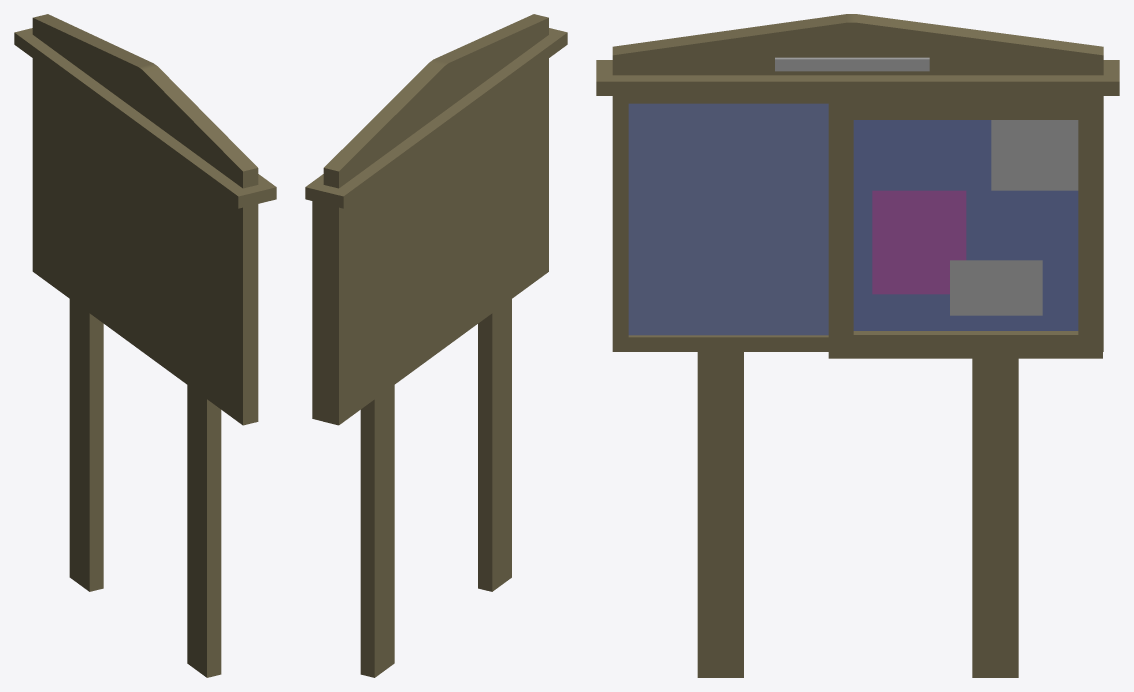
The model's file is Sign.fbx.
3 views of the same model, side by side, from view 1: azimuth 30°, elevation 25°; view 2: azimuth 150°, elevation 25°; view 3: azimuth 270°, elevation 25° (orthographic). The views are drawn at different scales.
Visible parts, largest first — view 1: pCube45; view 2: pCube45; view 3: pCube45.
Boxes of the visible parts, x1,y1,x2,y2 form: pCube45: (14,14,276,677); pCube45: (305,14,567,677); pCube45: (596,14,1119,677).
Bounding box in the file's own units: 0.2408 × 3.37 × 2.44.
